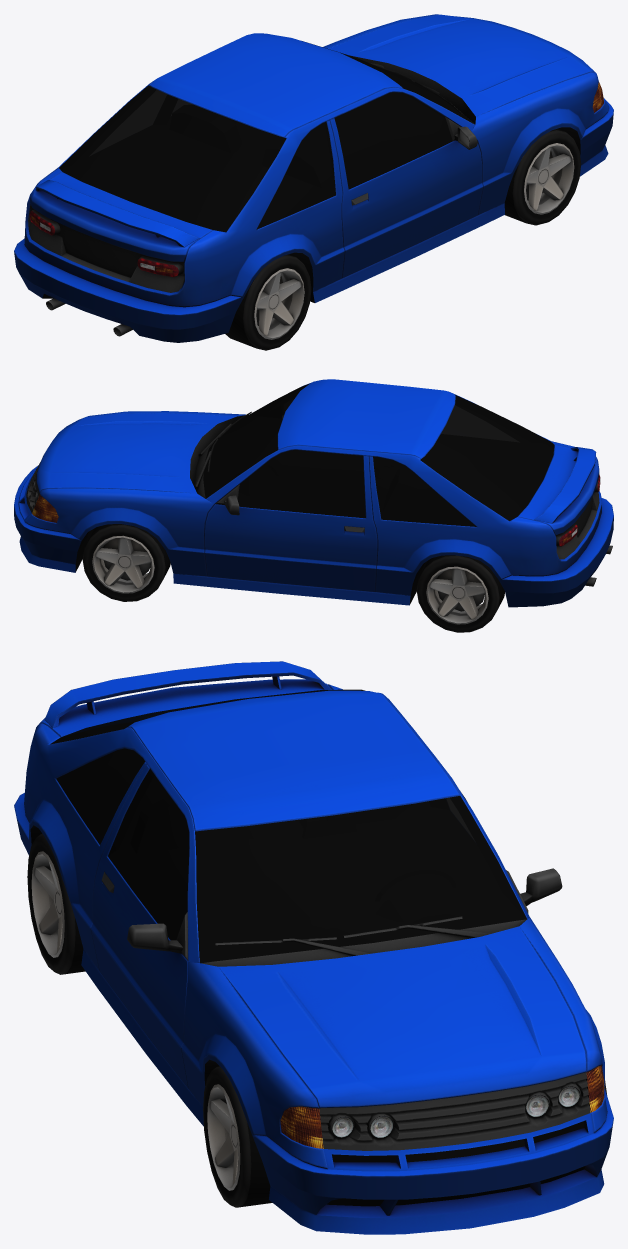
Rendered from car2.dae.
The picture shows the model from 3 angles, top to bottom: view 1: azimuth 30°, elevation 25°; view 2: azimuth 150°, elevation 25°; view 3: azimuth 270°, elevation 25°; orthographic projection. The views are drawn at different scales.
Visible parts, largest first — view 1: Wheel_F003_Wheel_0; view 2: Wheel_F003_Wheel_0; view 3: Wheel_F003_Wheel_0.
Boxes of the visible parts, left/top/right/bottom form: Wheel_F003_Wheel_0: left=14, top=14, right=613, bottom=350; Wheel_F003_Wheel_0: left=14, top=379, right=613, bottom=632; Wheel_F003_Wheel_0: left=14, top=661, right=613, bottom=1234.
Size of the model in its own units: 4.2 by 2.5 by 1.28.
